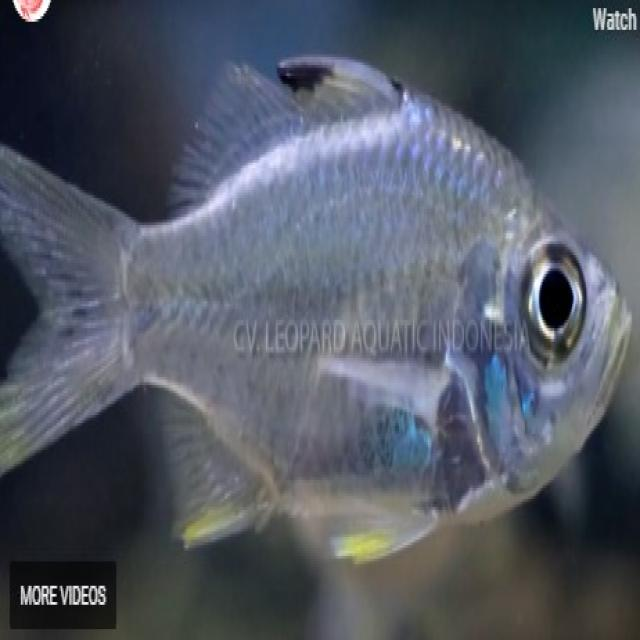Glass-Perchlet: (0, 45, 636, 588)
